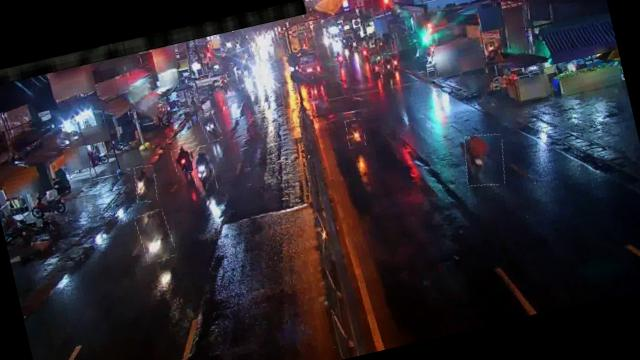Bike: (460, 131, 510, 190), (136, 208, 177, 264), (188, 144, 219, 194), (131, 163, 160, 204), (27, 187, 61, 218), (199, 112, 222, 144), (344, 118, 367, 148), (171, 146, 193, 175), (380, 53, 395, 75), (390, 52, 403, 72), (370, 57, 382, 76)
